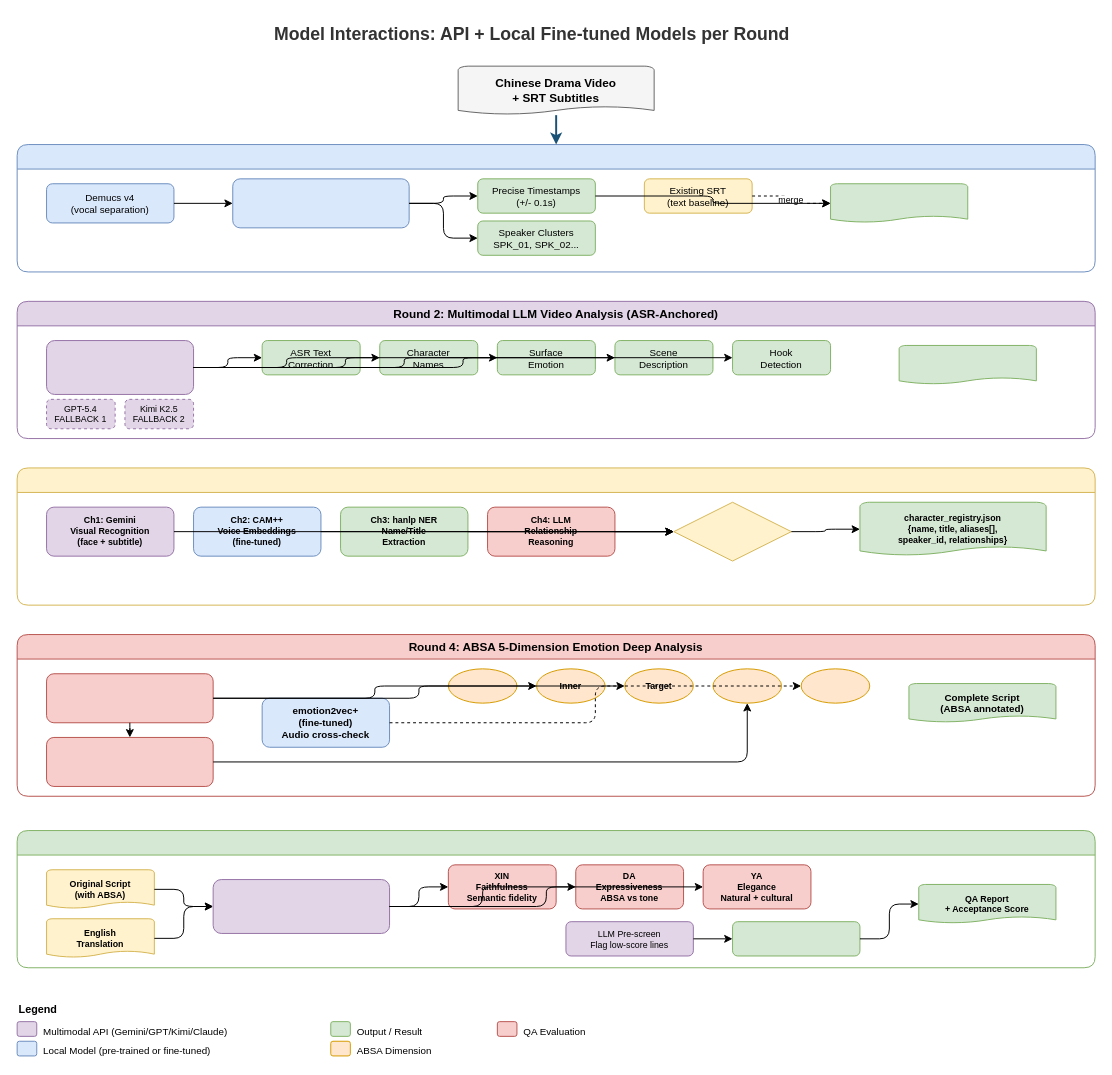
Some shapes in this 1112 by 1075 pixel diagram are drawn without their labels. The shapes that lost their labels are listed below. From the top down, each one's box as (x1, y1, x2, y2) in pixels, then its label:
(232, 178, 409, 228): FunASR Paraformer + CAM++ + VAD + Punc CER 1.95%
(16, 144, 1095, 272): Round 1: ASR Anchoring
(830, 183, 968, 223): Script Skeleton (Markdown)
(46, 340, 194, 394): Gemini 3.1 Pro (video + R1 results) PRIMARY
(898, 344, 1036, 385): Enriched Script (+ JSON blocks)
(16, 467, 1095, 605): Round 3: Character Alignment (4-Channel Cross-Validation)
(673, 501, 791, 561): Cross-Validation Fusion
(46, 673, 213, 723): Pass 1: Claude Opus 4.6 Inner emotion Emotion target
(447, 668, 517, 703): Surface
(712, 668, 782, 703): Tone
(800, 668, 870, 703): Intensity
(46, 736, 213, 786): Pass 2: Claude Opus 4.6 Tone style Surface-inner contrast
(212, 879, 390, 933): Distilled QA Model (from LLM + 1000 human) Outsource Benchmark
(16, 830, 1095, 968): Post-Translation QA: Xin-Da-Ya (Faithfulness-Expressiveness-Elegance)
(732, 921, 860, 956): Human Review (problem rows only)
